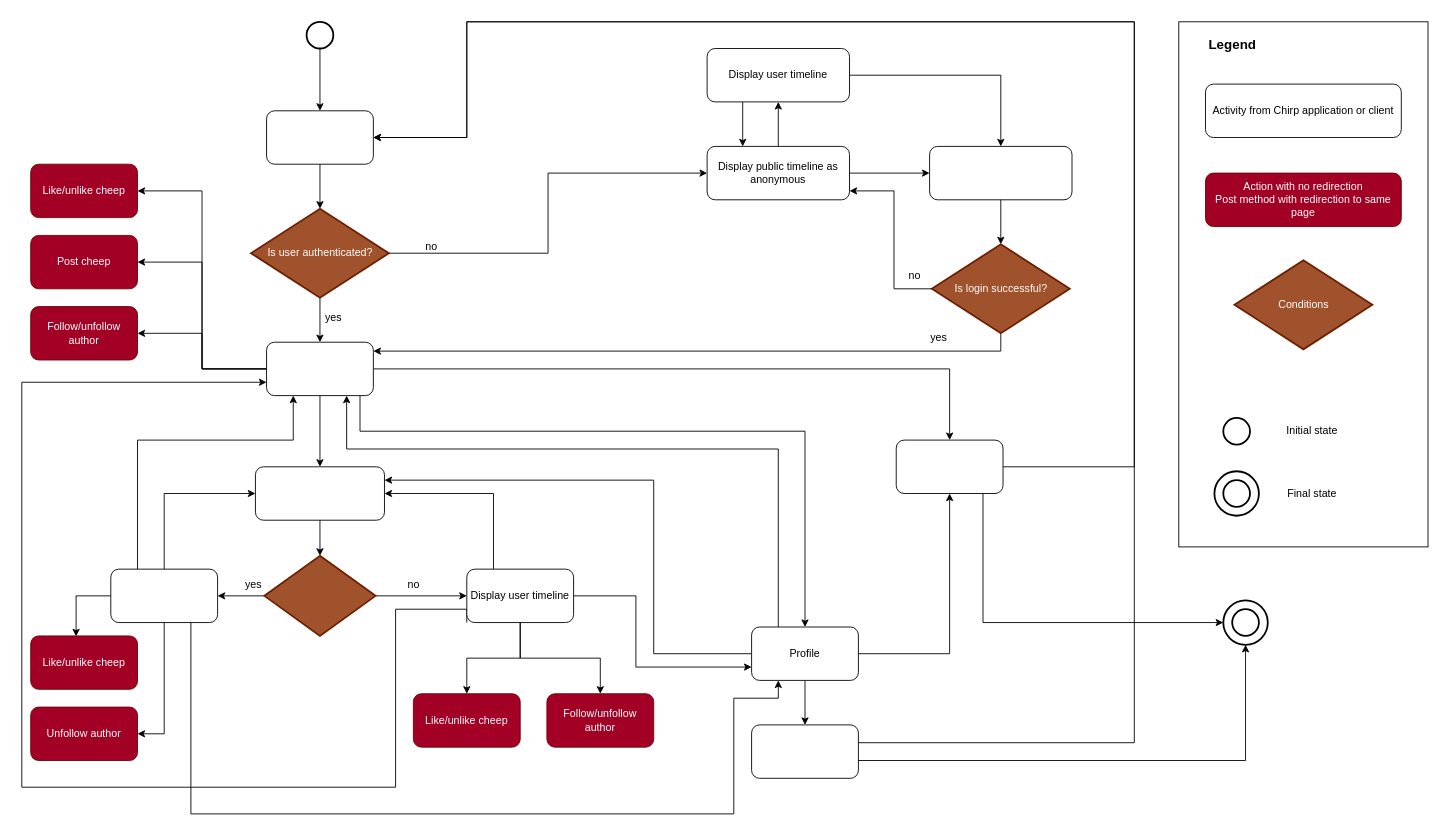
Some shapes in this 1444 by 837 pixel diagram are drawn without their labels. The shapes that lost their labels are listed below. From the top down, each one's box as (x1, y1, x2, y2) in pixels, then its label:
(266, 110, 373, 164): Display public timeline
(929, 146, 1072, 200): Login with GitHub
(266, 341, 373, 396): Display public timeline as user
(895, 439, 1003, 494): Logout
(255, 466, 384, 520): Request user timeline
(110, 568, 218, 623): Display my timeline
(263, 554, 376, 636): Is user == author?
(751, 724, 858, 778): Forget me
